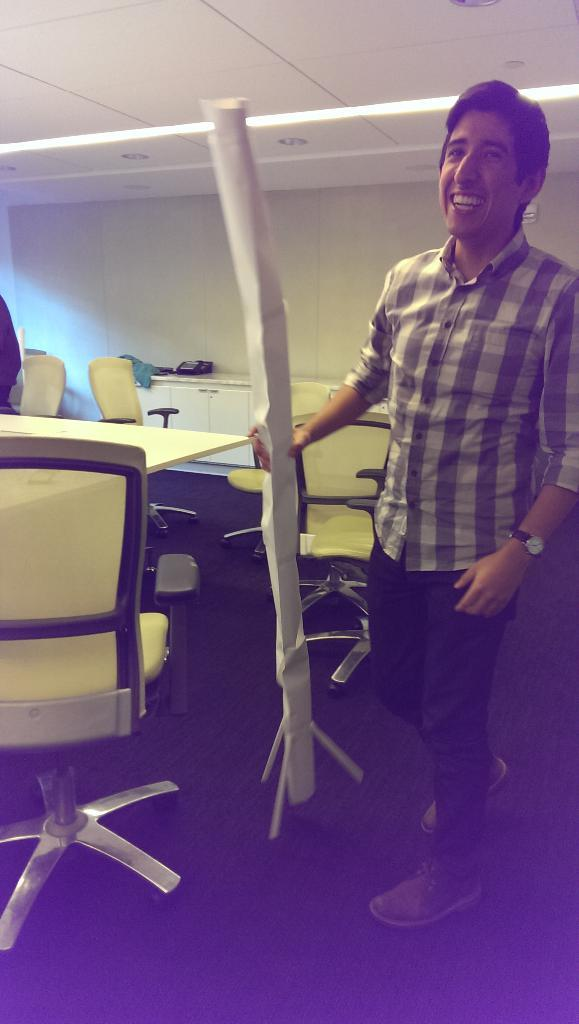Chair: (220, 380, 333, 558), (88, 356, 198, 536)
